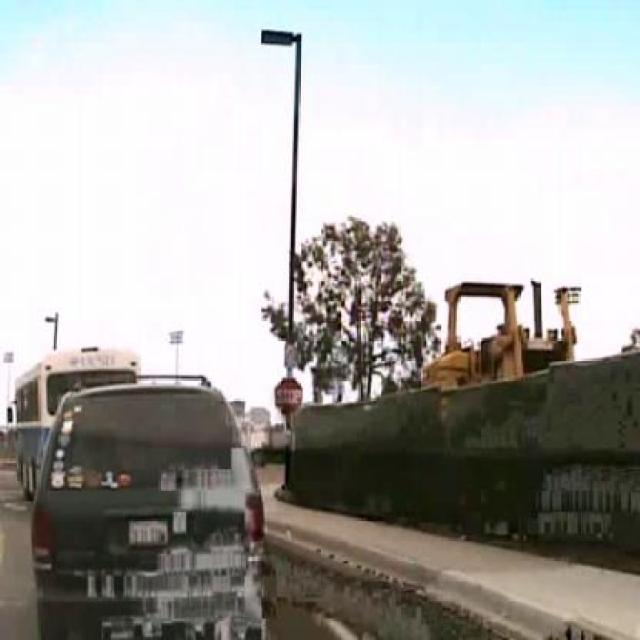stop: (274, 377, 302, 417)
